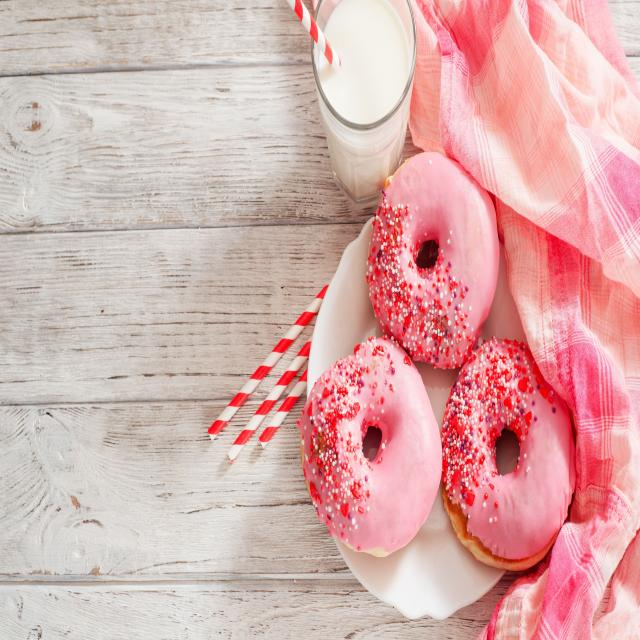Donut: (312, 187, 578, 539)
